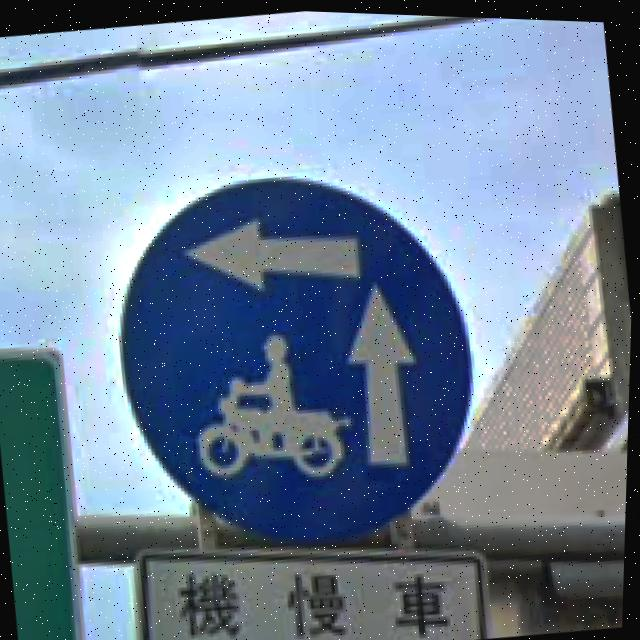twostageturn: (120, 175, 478, 542)
